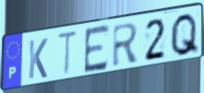2: (142, 18, 169, 64)
E: (83, 23, 111, 76)
K: (27, 37, 49, 81)
Q: (169, 11, 201, 58)
R: (111, 21, 141, 70)
T: (56, 30, 80, 79)
